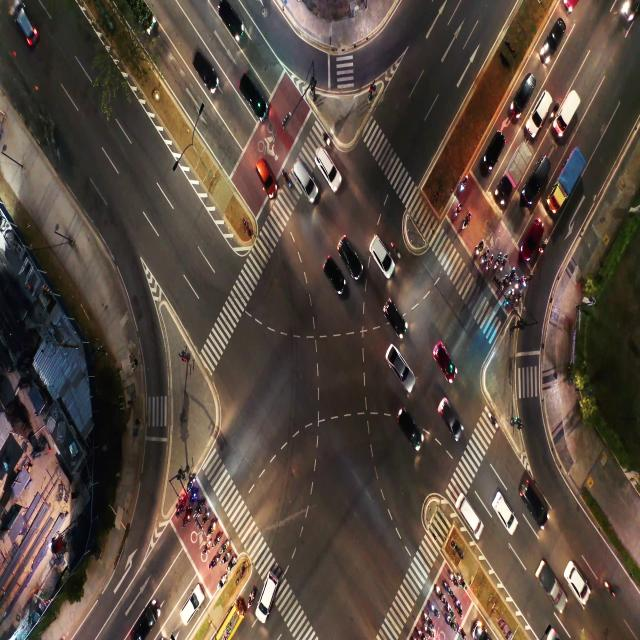bus: (223, 612, 240, 640)
car: (238, 67, 266, 112), (194, 51, 218, 90), (218, 1, 242, 40), (14, 6, 38, 40), (323, 257, 342, 296), (459, 498, 480, 532), (338, 234, 360, 266), (434, 341, 454, 372), (524, 480, 542, 512), (493, 492, 512, 522), (531, 94, 549, 123), (258, 158, 273, 192), (140, 596, 155, 627), (386, 350, 406, 373), (572, 566, 584, 604), (514, 80, 530, 108), (442, 401, 456, 432), (371, 244, 389, 268), (482, 138, 498, 165), (399, 408, 417, 431), (315, 152, 333, 174), (526, 221, 538, 251), (185, 590, 196, 621), (293, 158, 307, 182), (546, 26, 559, 49), (385, 300, 397, 322), (538, 163, 546, 196), (264, 577, 272, 606)
motorcycle: (605, 582, 618, 603), (487, 410, 497, 427), (460, 218, 470, 232), (392, 242, 400, 259), (474, 241, 481, 256), (458, 578, 467, 589), (212, 556, 219, 570), (500, 278, 506, 294), (219, 574, 226, 587), (457, 623, 464, 636), (284, 170, 290, 185), (246, 594, 252, 608), (454, 205, 460, 219), (443, 581, 450, 593), (322, 133, 330, 143), (486, 260, 491, 275), (436, 585, 441, 598), (197, 503, 202, 515), (221, 540, 227, 550), (509, 290, 514, 302), (516, 292, 521, 304), (456, 597, 460, 612), (430, 602, 436, 612), (508, 272, 512, 286), (425, 627, 432, 635), (451, 572, 456, 583), (416, 626, 421, 637), (188, 480, 194, 489), (178, 498, 183, 508), (209, 523, 214, 533), (223, 553, 228, 563), (185, 514, 189, 526), (514, 278, 518, 290), (202, 513, 207, 522), (205, 541, 210, 550), (541, 244, 546, 253), (213, 537, 220, 543), (460, 182, 464, 192), (499, 262, 504, 270), (448, 604, 452, 614), (447, 617, 452, 624), (230, 560, 234, 568), (482, 254, 486, 262), (424, 612, 428, 620), (525, 279, 530, 285), (191, 494, 195, 501), (495, 258, 498, 266)
truck: (510, 152, 521, 187), (544, 570, 556, 592), (564, 164, 573, 188), (565, 103, 573, 123)
